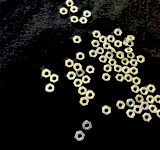nut: (75, 132, 85, 142), (126, 99, 136, 109), (83, 121, 92, 132), (143, 113, 152, 123), (102, 106, 111, 116), (116, 101, 126, 110), (135, 95, 145, 104), (140, 87, 149, 97), (80, 97, 89, 107), (86, 91, 96, 100), (78, 87, 88, 96), (46, 84, 55, 94), (50, 74, 59, 84), (42, 69, 51, 79), (73, 63, 83, 72), (149, 105, 158, 114), (141, 102, 150, 111), (134, 106, 143, 115), (127, 110, 136, 119), (131, 85, 140, 94), (74, 79, 83, 88), (82, 76, 91, 85), (76, 69, 85, 78), (116, 74, 125, 83), (102, 73, 111, 82), (114, 65, 123, 74), (116, 51, 125, 60), (146, 96, 156, 104), (67, 72, 77, 80), (148, 85, 156, 94), (86, 66, 95, 74), (66, 59, 74, 68), (77, 52, 85, 61), (73, 36, 82, 44), (133, 77, 141, 86), (125, 74, 133, 83), (131, 67, 139, 76), (123, 66, 131, 75), (130, 59, 139, 67), (121, 58, 130, 66), (89, 50, 98, 58), (107, 35, 116, 43), (99, 36, 108, 44), (104, 65, 112, 73), (127, 52, 135, 60), (109, 47, 117, 55), (103, 43, 111, 51), (92, 40, 100, 48), (93, 31, 101, 39), (71, 16, 79, 24), (60, 8, 68, 16), (109, 59, 118, 66), (99, 56, 108, 63), (138, 56, 145, 64), (106, 52, 114, 59), (97, 48, 105, 55), (127, 35, 135, 42), (115, 41, 123, 48), (115, 29, 123, 36), (80, 17, 88, 24), (71, 6, 78, 14), (66, 0, 74, 7), (125, 48, 134, 54), (84, 11, 91, 18), (155, 95, 160, 104), (124, 38, 129, 46), (128, 42, 134, 48), (157, 110, 160, 119)
